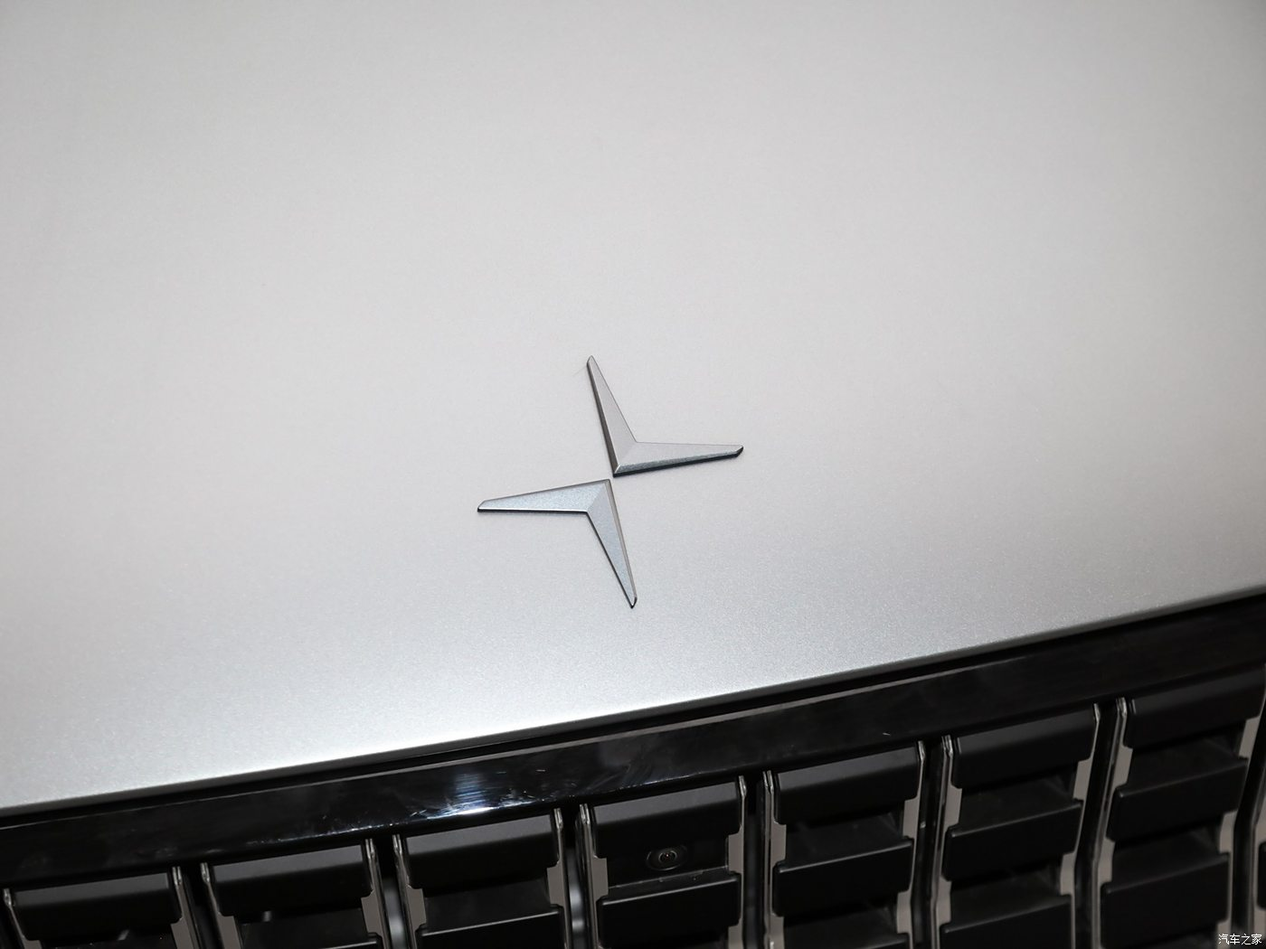Polestar: (478, 356, 742, 607)
